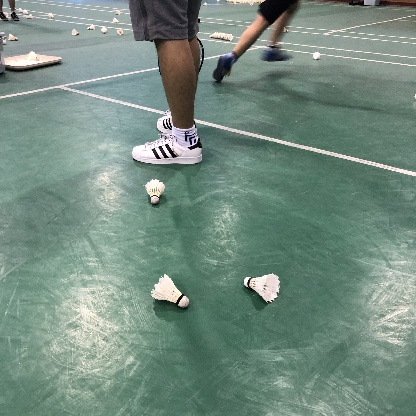ball_single: (150, 274, 189, 308), (243, 273, 280, 303), (145, 179, 165, 204), (209, 32, 233, 41), (8, 34, 18, 40), (313, 52, 320, 60), (72, 29, 79, 36), (87, 24, 95, 30), (117, 29, 123, 35), (101, 27, 107, 33), (113, 17, 119, 23), (116, 10, 120, 15)
